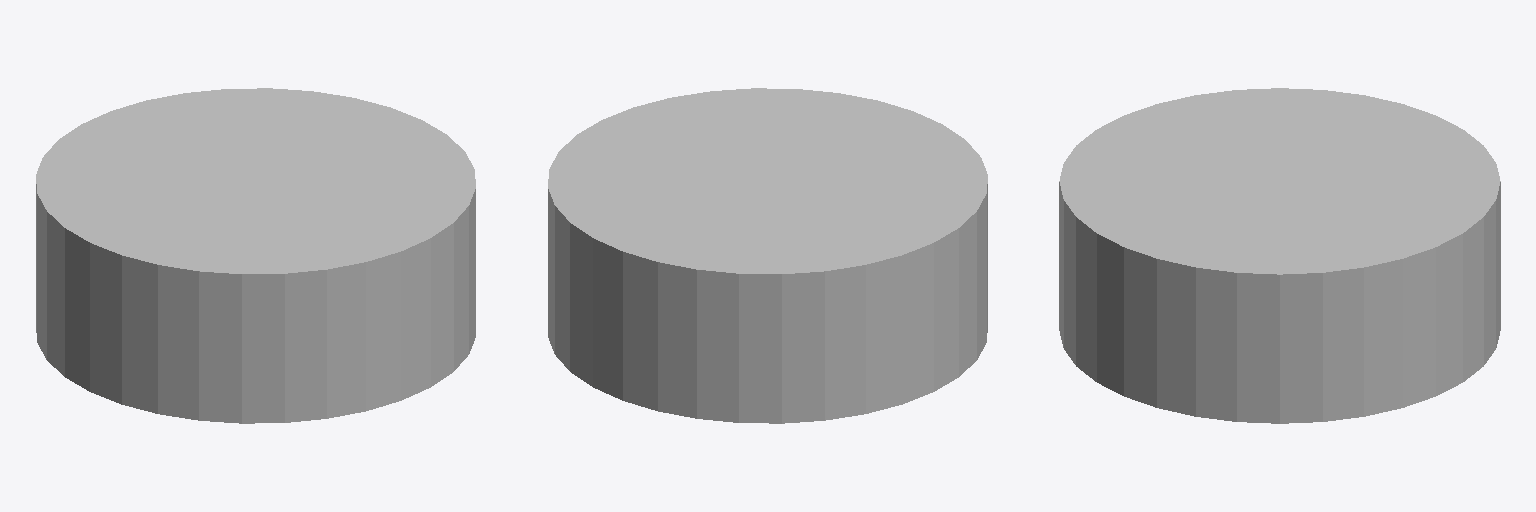
Rendered from cheese.obj.
3 views of the same model, side by side, from view 1: azimuth 30°, elevation 25°; view 2: azimuth 150°, elevation 25°; view 3: azimuth 270°, elevation 25° (orthographic).
Parts seen in each view (by area): view 1: the_cheese; view 2: the_cheese; view 3: the_cheese.
Part boxes in pixels (x1,y1,x2,y2): the_cheese: (36, 88, 475, 423); the_cheese: (548, 88, 987, 423); the_cheese: (1059, 88, 1500, 423).
Bounding box in the file's own units: 2.13 × 0.7935 × 2.13.